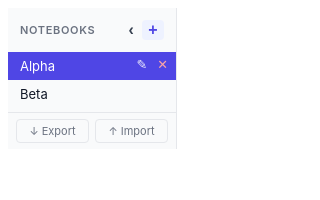
it: NotebookList create › shows create input after clicking "+"
The width and height of the screenshot is (320, 200).
Click the button named "New notebook".
click(153, 30)  # box [142, 20, 164, 40]
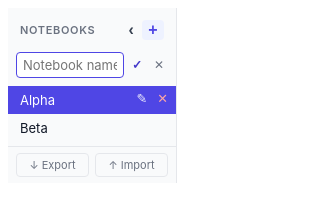
Result: the field named "New notebook name" is shown at [16, 52, 124, 78]
